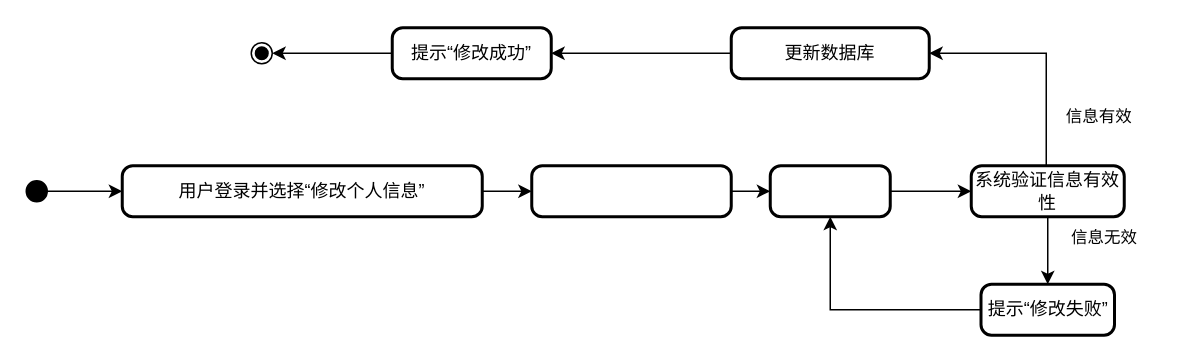
Some shapes in this 1178 by 362 pixel diagram are drawn without their labels. The shapes that lost their labels are listed below. From the top down, each one's box as (x1, y1, x2, y2) in pixels, then its label:
(530, 164, 732, 218): 系统显示当前用户信息
(768, 164, 891, 218): 用户修改信息
